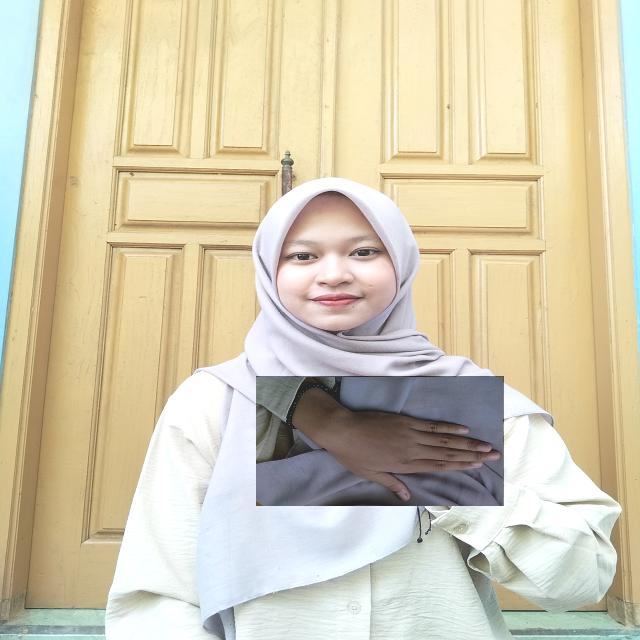tolong: (256, 376, 504, 506)
